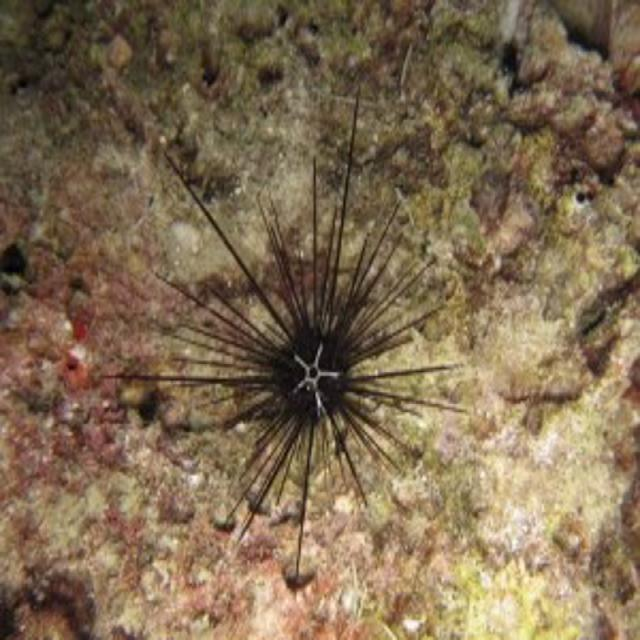Urchin: (119, 72, 481, 585)
